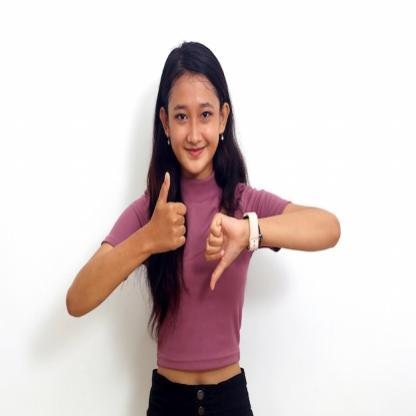thumb_down: (204, 210, 244, 292)
thumb_up: (147, 169, 188, 256)
